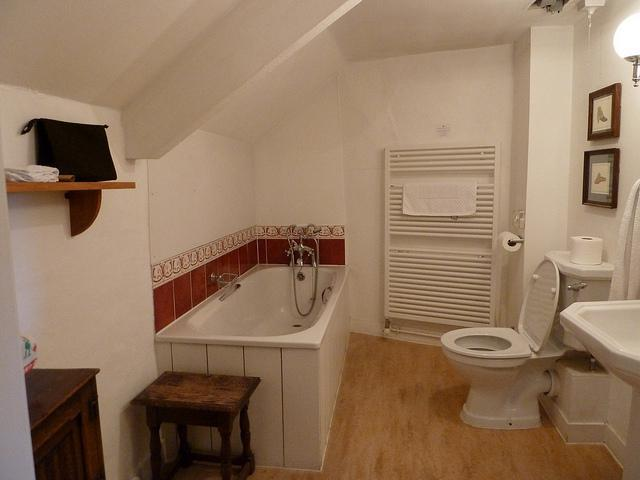Lavamanos: (560, 288, 639, 398)
Sanitario: (429, 243, 610, 438)
